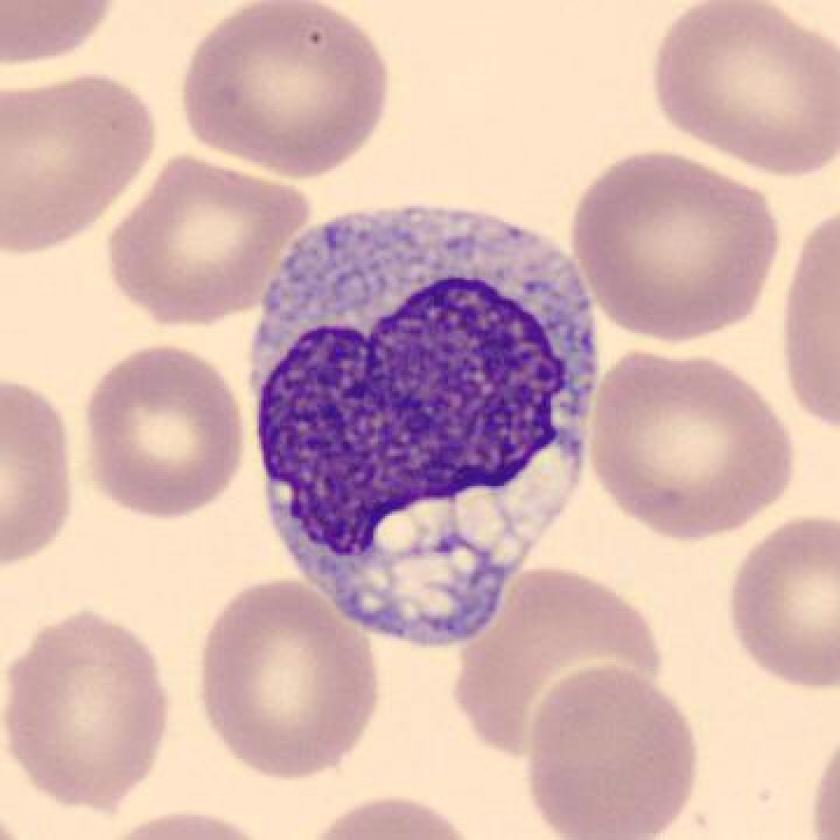monocyte: (232, 179, 617, 672)
